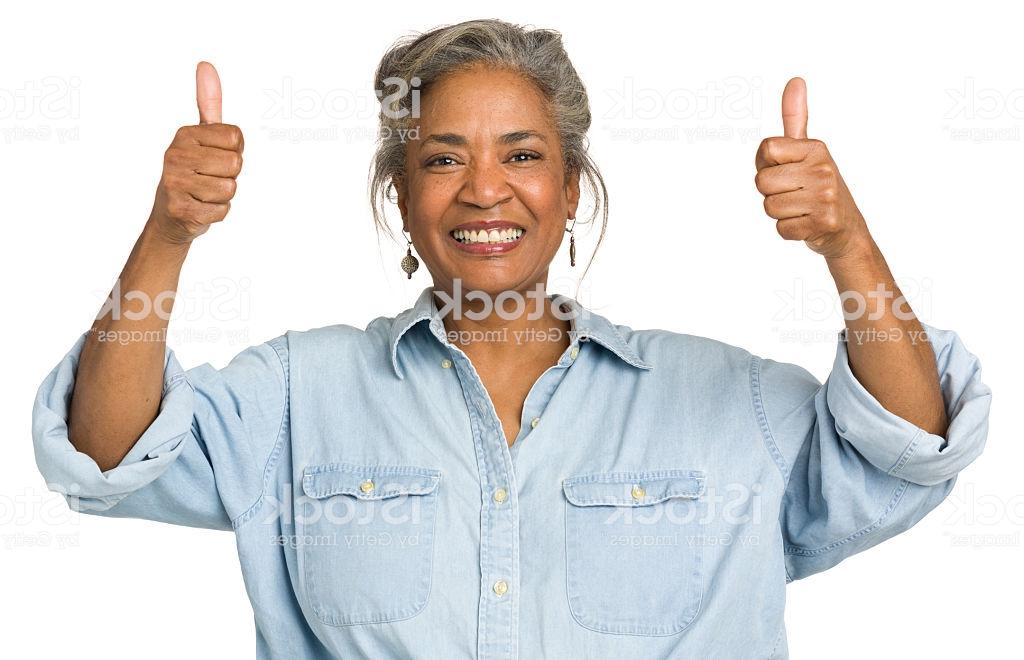thumbsup: (159, 59, 244, 229), (755, 76, 841, 241)
